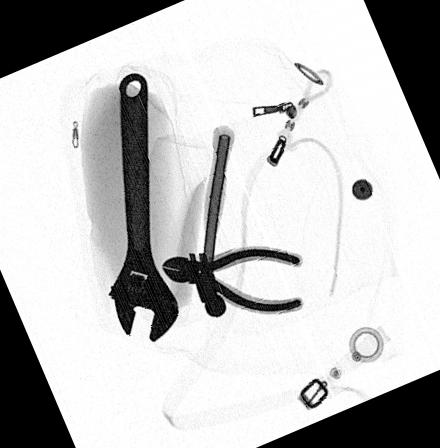Hammer: (188, 126, 235, 318)
Pliers: (161, 245, 303, 313)
Wrench: (106, 70, 180, 344)
